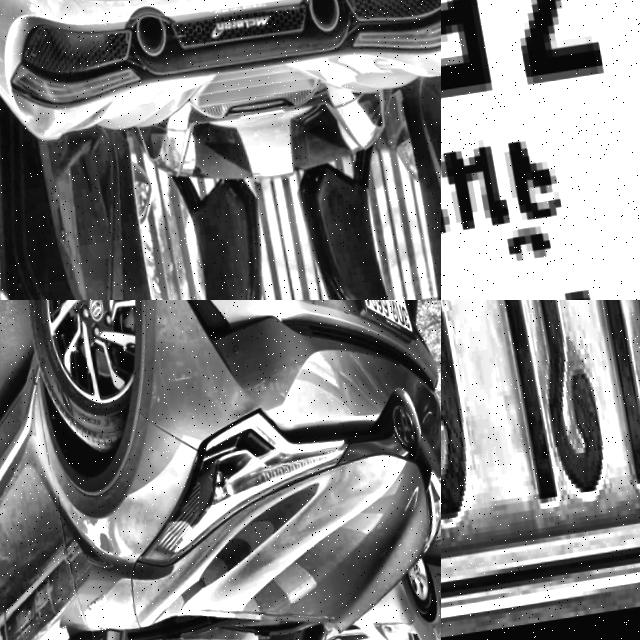license-plate: (441, 300, 640, 640), (441, 0, 640, 300), (345, 300, 415, 355)
